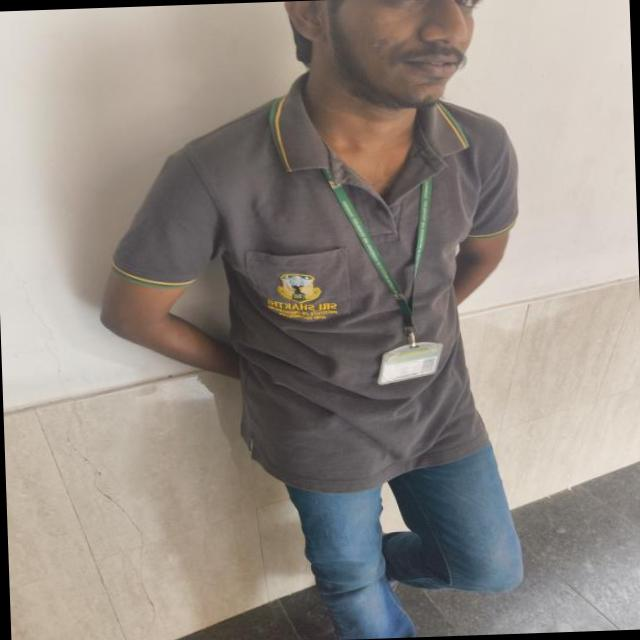id_card: (339, 192, 455, 393)
